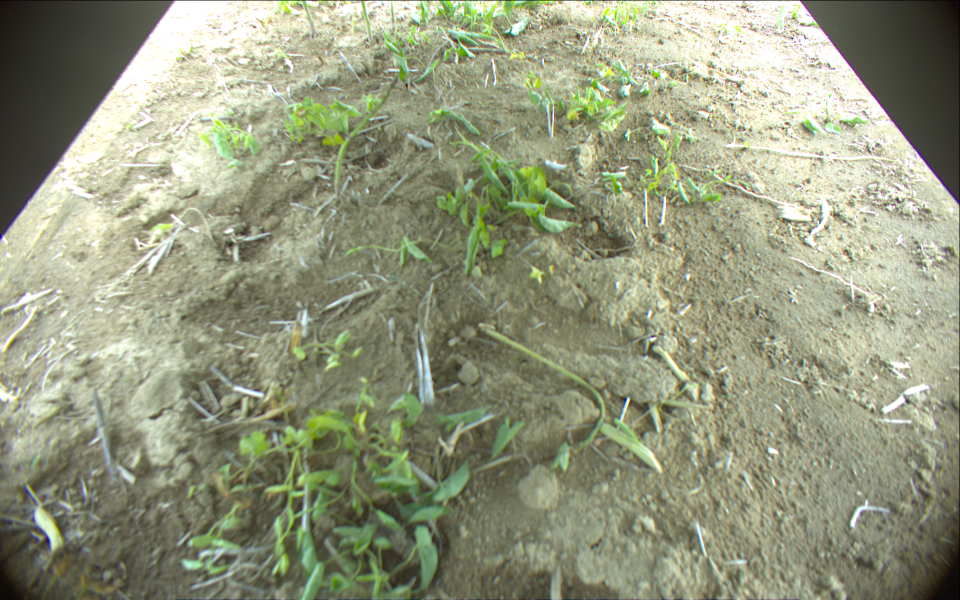aspa: (480, 324, 605, 453), (334, 73, 400, 196), (302, 1, 317, 35), (360, 1, 373, 40), (389, 1, 396, 35)
